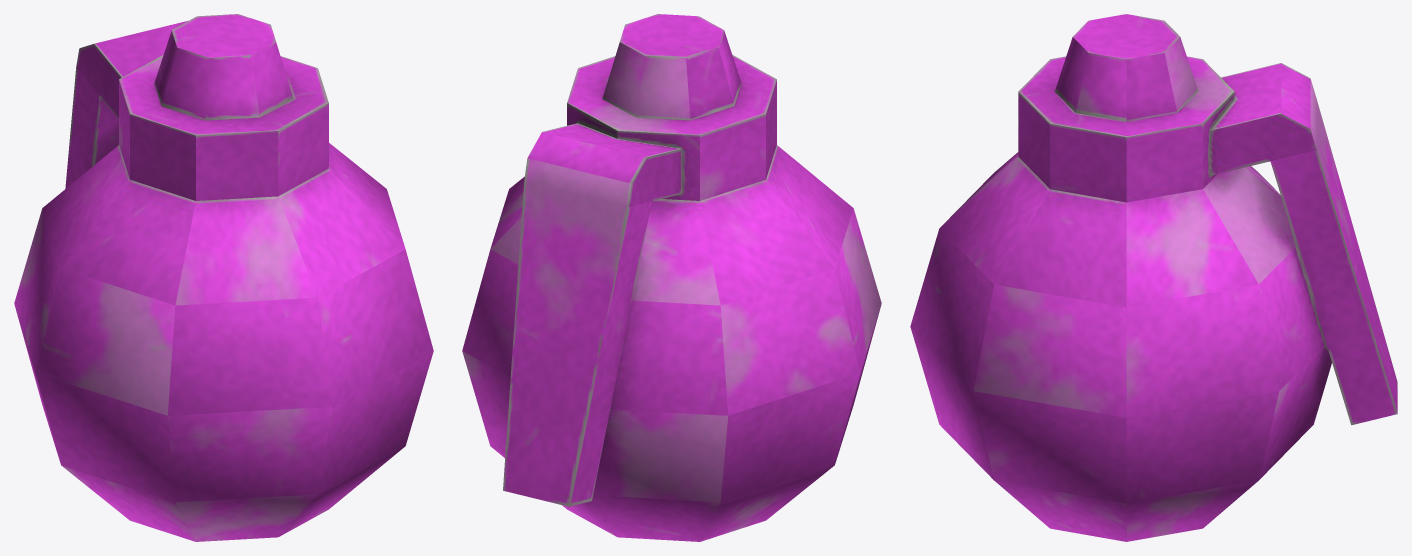
Rendered from grenade-b.glb.
3 renders of one model, left to right at view 1: azimuth 30°, elevation 25°; view 2: azimuth 150°, elevation 25°; view 3: azimuth 270°, elevation 25°, orthographic.
Parts seen in each view (by area): view 1: grenade-b; view 2: grenade-b; view 3: grenade-b.
Part boxes in pixels (<box>): grenade-b: <box>14,14,433,541</box>; grenade-b: <box>462,14,881,541</box>; grenade-b: <box>910,14,1397,541</box>.
Bounding box in the file's own units: 0.18 × 0.2111 × 0.2029.
Materials: 1 (1 with a texture image).
